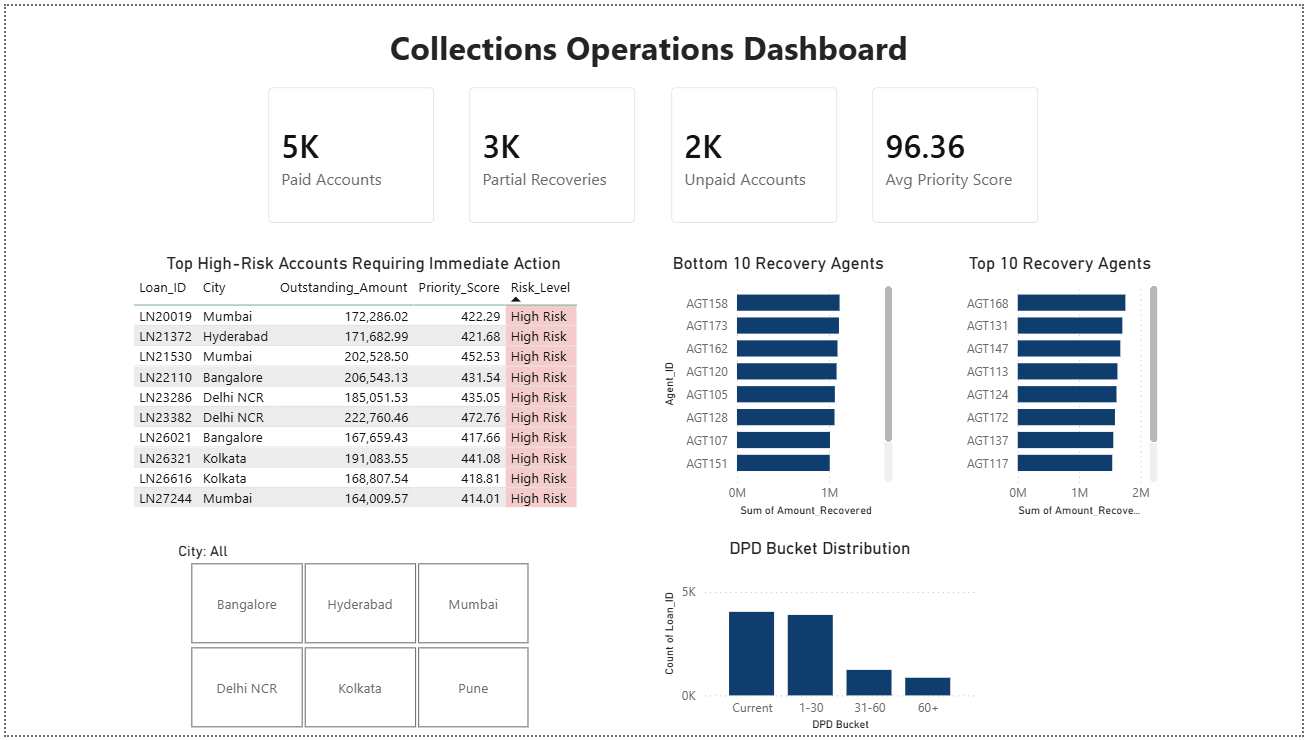

Layout of this report page (visuals, bound fields, positions):
{"tool":"powerbi","page":{"name":"Collections Operations","canvas":[1280,720],"ordinal":1},"visuals":[{"type":"cardVisual","fields":{"Data":["analytics_dataset.Paid Accounts"]},"box":[242.2,63,198.9,168.9],"z":0,"group":"g1"},{"type":"tableEx","title":"Top High-Risk Accounts Requiring Immediate Action","fields":{"Values":["analytics_dataset.Loan_ID","analytics_dataset.City","analytics_dataset.Outstanding_Amount","analytics_dataset.Priority_Score","analytics_dataset.Risk_Level"]},"box":[120,244.4,465.6,264.4],"z":0},{"type":"cardVisual","fields":{"Data":["analytics_dataset.Partial Recoveries"]},"box":[441.1,63,198.9,168.9],"z":1000,"group":"g1"},{"type":"clusteredBarChart","title":"Top 10 Recovery Agents","fields":{"Category":["analytics_dataset.Agent_ID"],"Y":["Sum(analytics_dataset.Amount_Recovered)"]},"box":[938.9,244.4,203.3,264.4],"z":1000},{"type":"cardVisual","fields":{"Data":["analytics_dataset.Unpaid Accounts"]},"box":[640,63,198.9,168.9],"z":2000,"group":"g1"},{"type":"clusteredBarChart","title":"Bottom 10 Recovery Agents","fields":{"Category":["analytics_dataset.Agent_ID"],"Y":["Sum(analytics_dataset.Amount_Recovered)"]},"box":[644.4,244.4,235.6,264.4],"z":2000},{"type":"textbox","box":[374.2,12.6,532.7,63.1],"z":3000},{"type":"cardVisual","fields":{"Data":["analytics_dataset.Avg Priority Score"]},"box":[838.9,63,198.9,168.9],"z":3000,"group":"g1"},{"type":"clusteredColumnChart","title":"DPD Bucket Distribution","fields":{"Y":["CountNonNull(analytics_dataset.Loan_ID)"],"Category":["analytics_dataset.DPD Bucket"]},"box":[644.4,525.6,317.8,194.4],"z":4000},{"type":"group","id":"g1","title":"Group 1","box":[242.2,63,795.6,168.9],"z":5000},{"type":"slicer","title":"city","fields":{"Values":["analytics_dataset.City"]},"box":[157.3,525.8,383.4,194],"z":6000}]}

Visuals, with their boxes in screenshot pixels (x1, y1, x2, y2), scaled from the page's 1280x720 canvas onto the 1309x740 screenshot:
cardVisual - analytics_dataset.Paid Accounts: bbox=[248, 65, 451, 238]
"Top High-Risk Accounts Requiring Immediate Action" tableEx: bbox=[123, 251, 599, 523]
cardVisual - analytics_dataset.Partial Recoveries: bbox=[451, 65, 654, 238]
"Top 10 Recovery Agents" clusteredBarChart: bbox=[960, 251, 1168, 523]
cardVisual - analytics_dataset.Unpaid Accounts: bbox=[654, 65, 858, 238]
"Bottom 10 Recovery Agents" clusteredBarChart: bbox=[659, 251, 900, 523]
textbox: bbox=[383, 13, 927, 78]
cardVisual - analytics_dataset.Avg Priority Score: bbox=[858, 65, 1061, 238]
"DPD Bucket Distribution" clusteredColumnChart: bbox=[659, 540, 984, 739]
"Group 1" group: bbox=[248, 65, 1061, 238]
"city" slicer: bbox=[161, 540, 553, 739]
